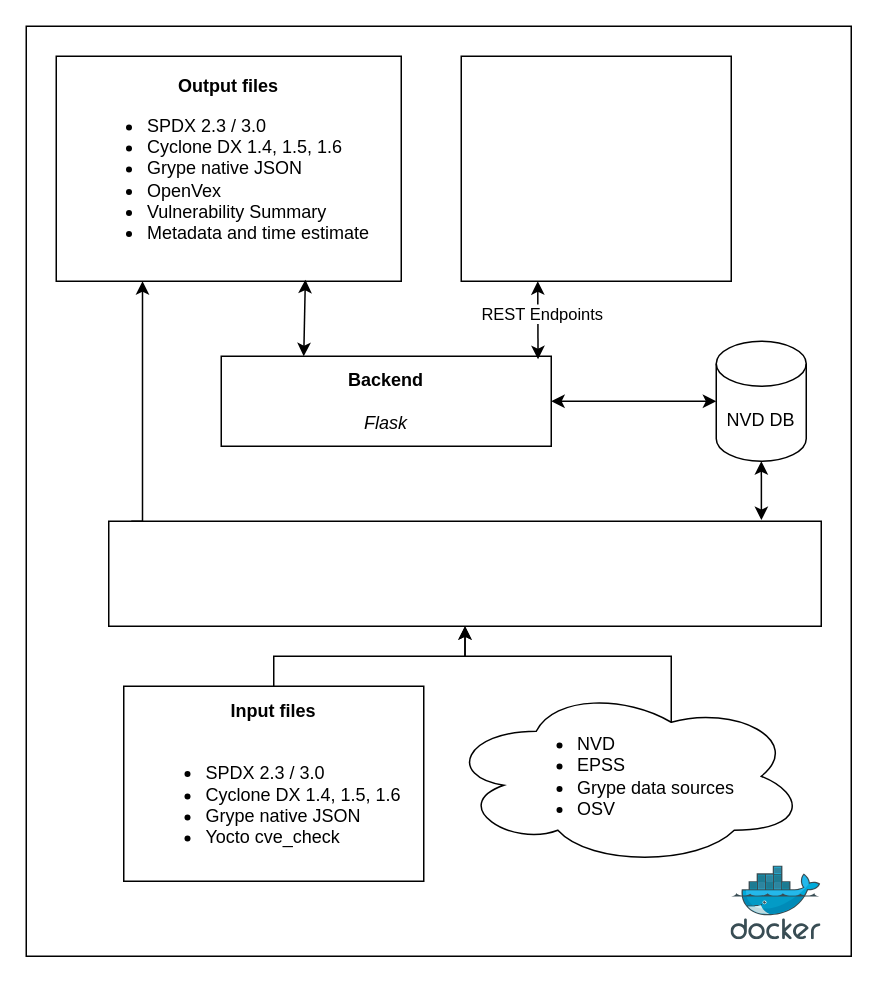
This 878x983 diagram has some shape labels left out. The centre of each missing label's shape, as x and y in pixels:
Frontend React.js: point 595,168
Scanner Grype OSV-Scanner: point 464,573
